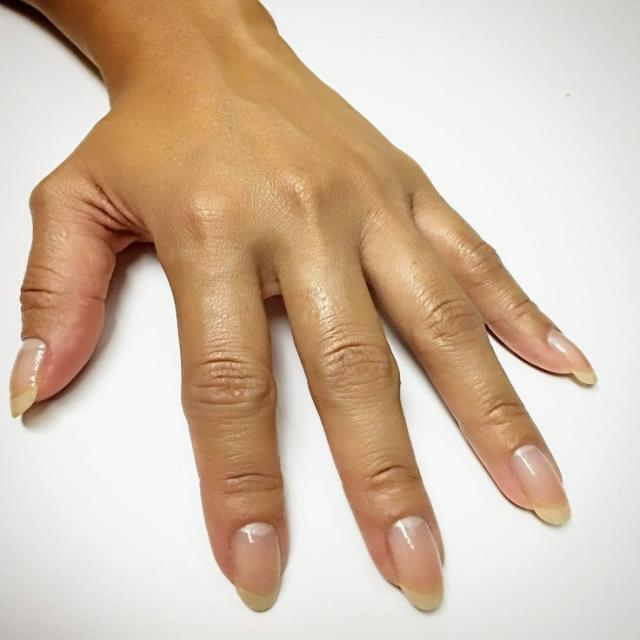Fingernail: (389, 518, 446, 612), (511, 445, 572, 526), (232, 522, 282, 613), (550, 326, 597, 383), (12, 339, 45, 418)
